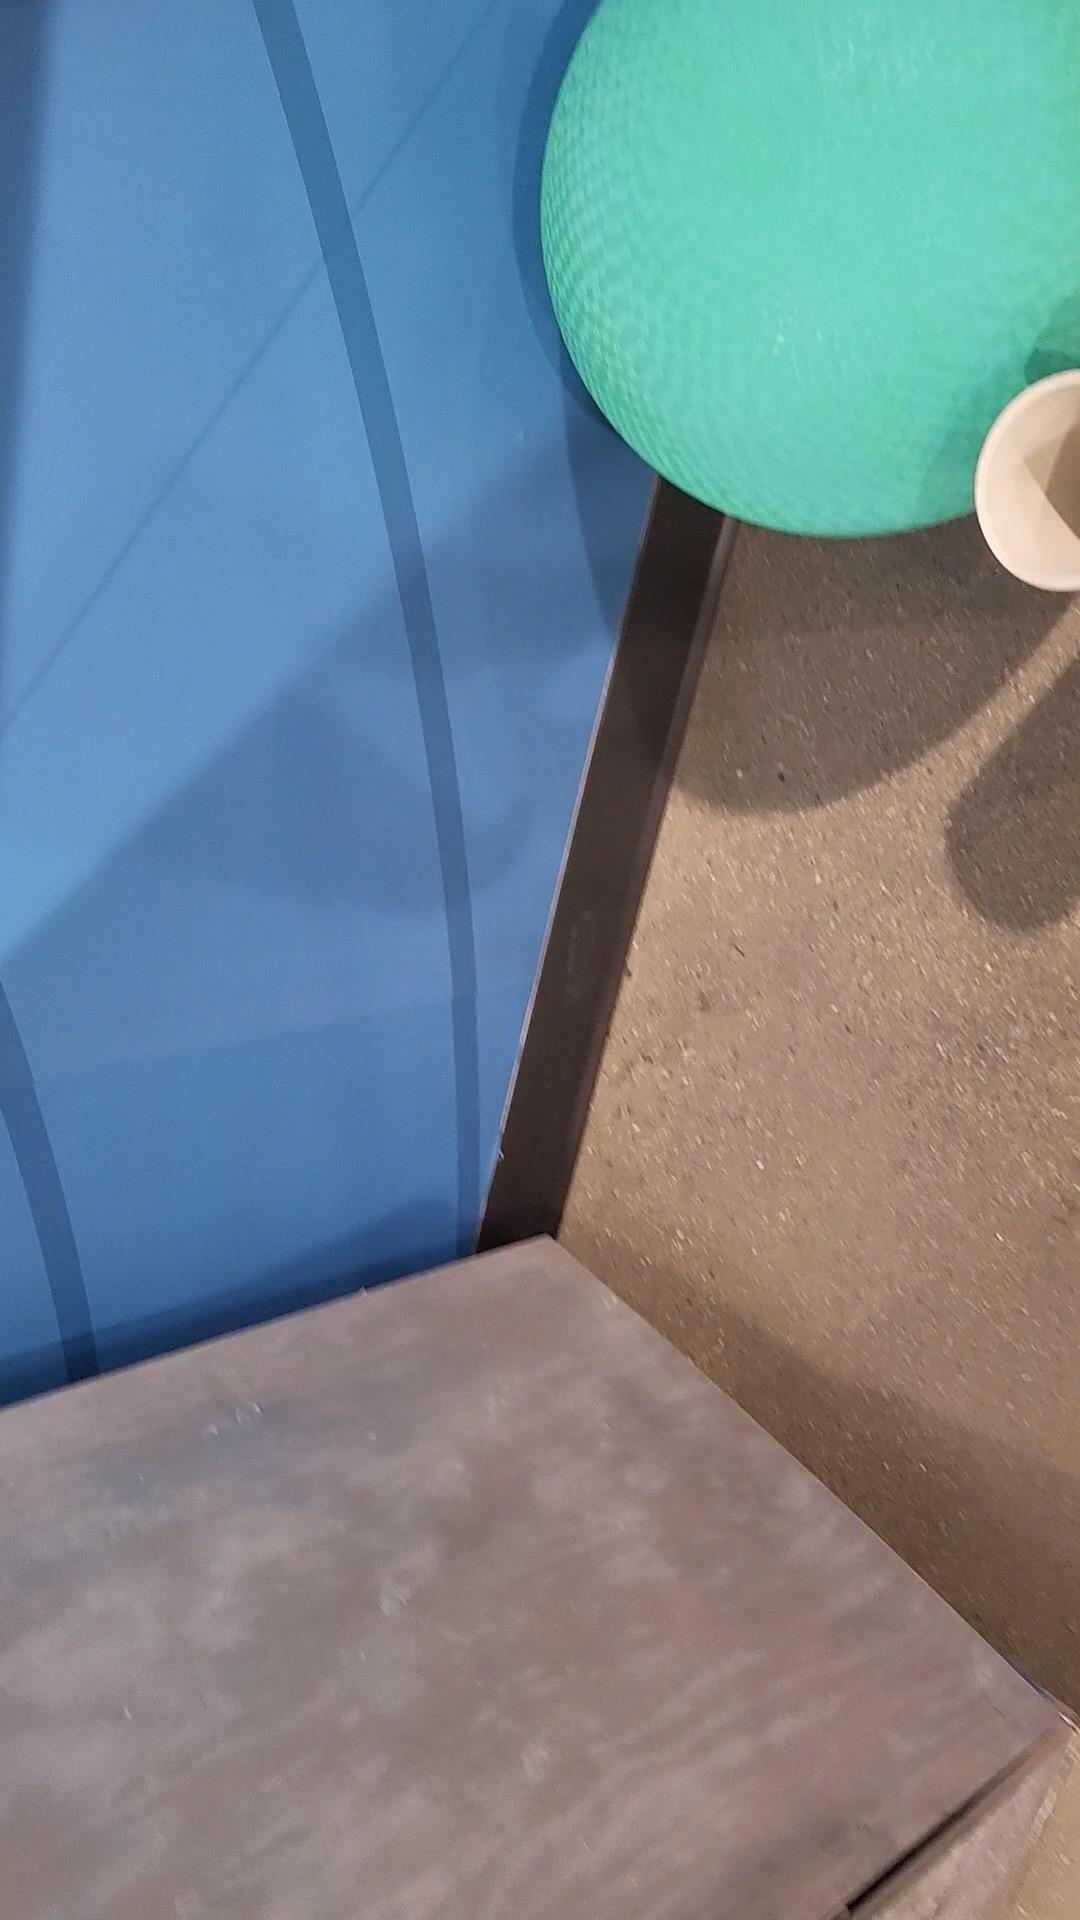algae: (541, 0, 1080, 538)
coral: (975, 363, 1080, 592)
